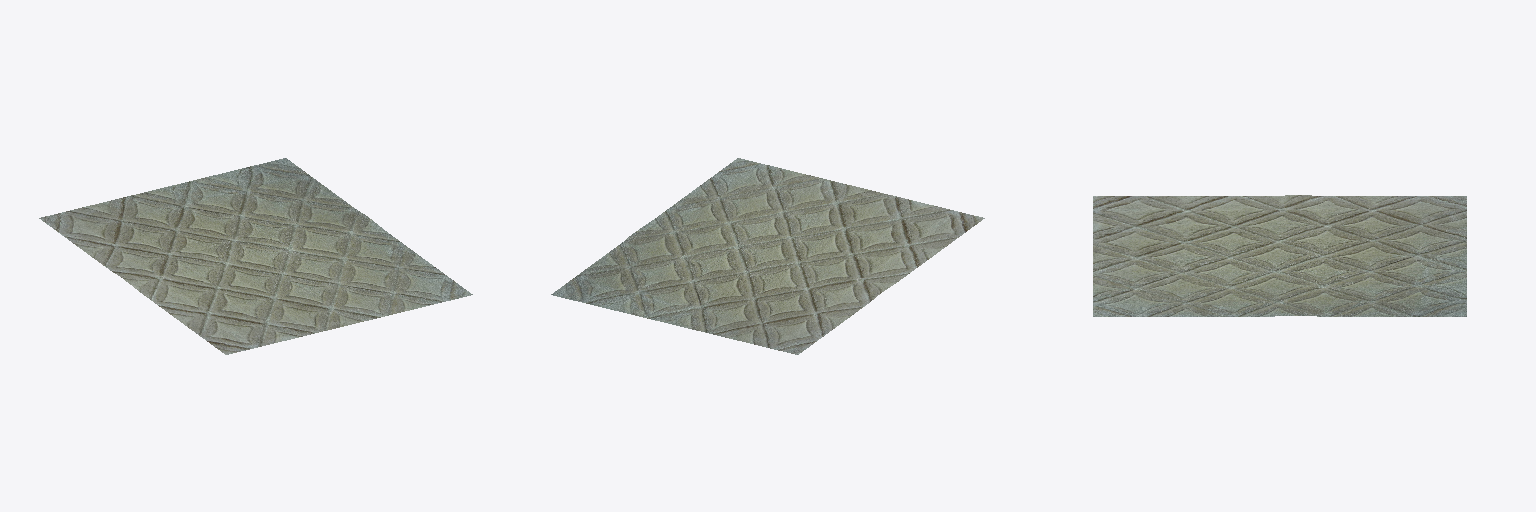
3 views of the same model, side by side, from view 1: azimuth 30°, elevation 25°; view 2: azimuth 150°, elevation 25°; view 3: azimuth 270°, elevation 25° (orthographic).
Visible parts, largest first — view 1: Plane06; view 2: Plane06; view 3: Plane06.
Part boxes in pixels (x1,y1,x2,y2): Plane06: (39, 158, 472, 354); Plane06: (551, 158, 984, 354); Plane06: (1093, 195, 1466, 316).
Bounding box in the file's own units: 16 × 0.0664 × 21.
Materials: 1 (1 with a texture image).